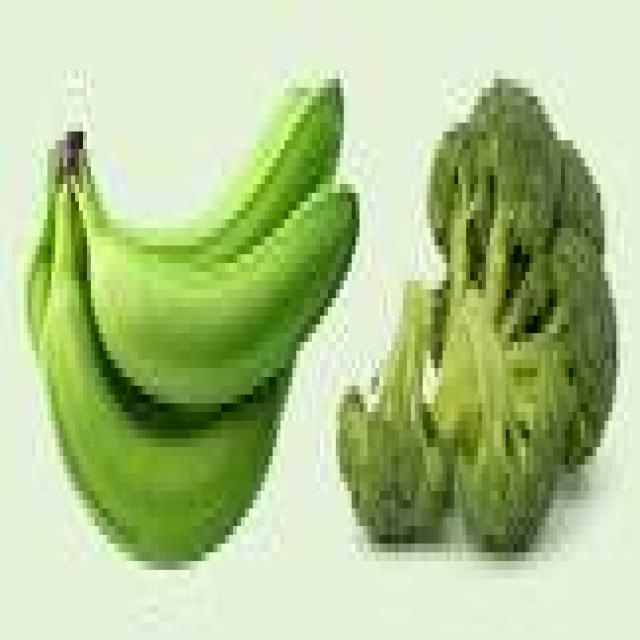banana: (40, 185, 292, 561), (76, 185, 359, 403), (68, 79, 343, 263), (111, 79, 343, 263), (28, 150, 63, 350)
